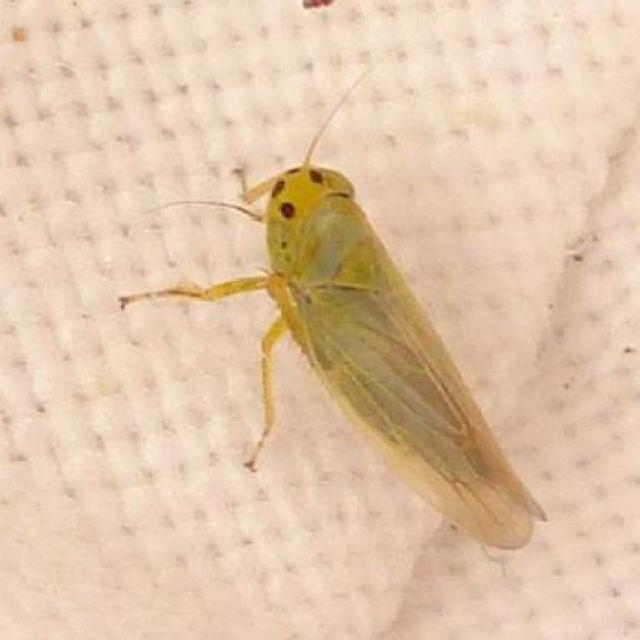green-leafhopper: (111, 165, 541, 548)
